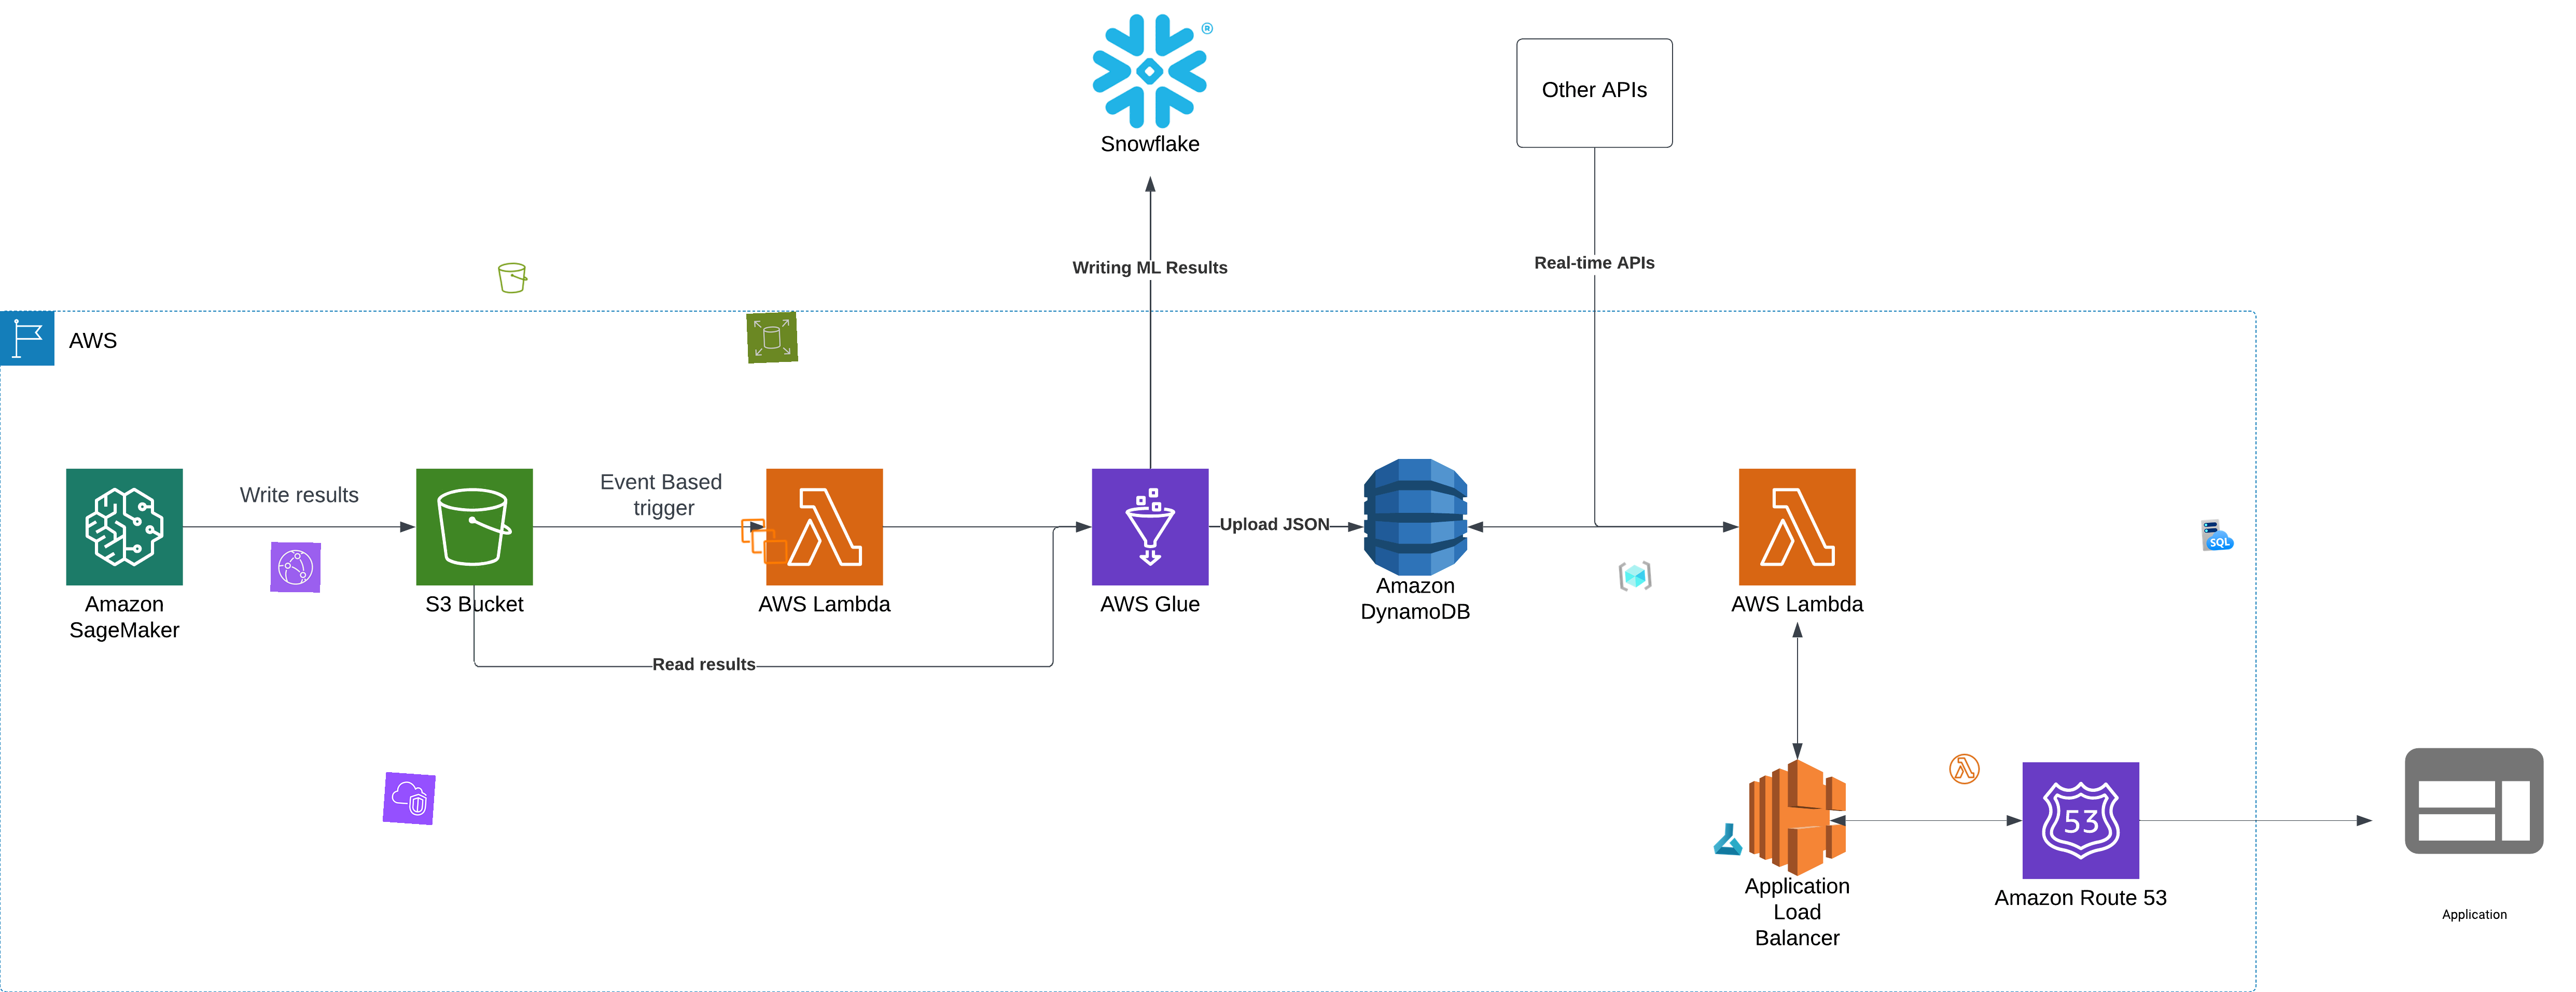aws_amazon_cloudfront: (269, 542, 320, 593)
aws_amazon_elastic_block_store: (746, 312, 798, 363)
aws_amazon_virtual_private_cloud: (383, 772, 435, 826)
aws_ec2_instances: (739, 516, 790, 567)
aws_lambda_lambda_function: (1947, 752, 1981, 787)
aws_simple_storage_service_s3_standard: (494, 259, 531, 296)
azure_machine_learning: (1710, 821, 1746, 857)
azure_resource_groups: (1617, 558, 1653, 595)
azure_sql_managed_instance: (2200, 516, 2236, 553)
